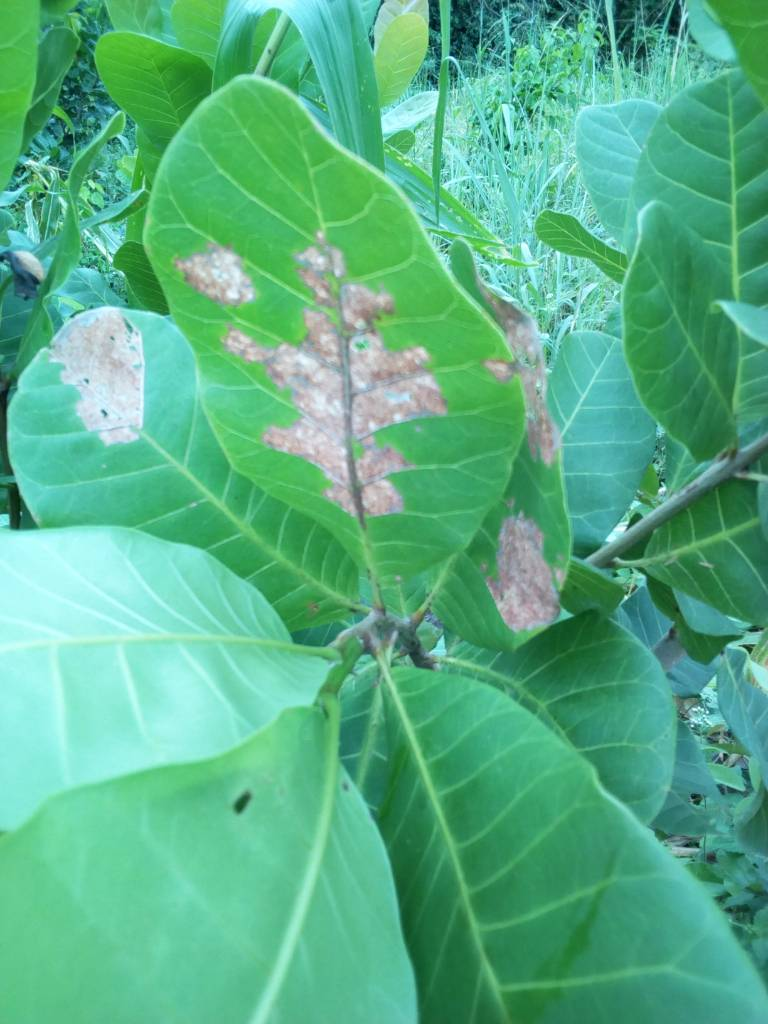Dysdercus wolkerii: (146, 64, 519, 600)
